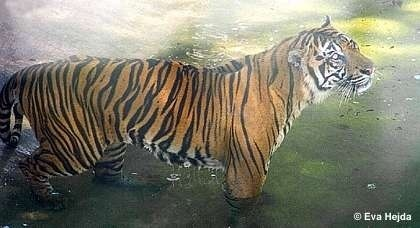tigre: (1, 16, 375, 200)
